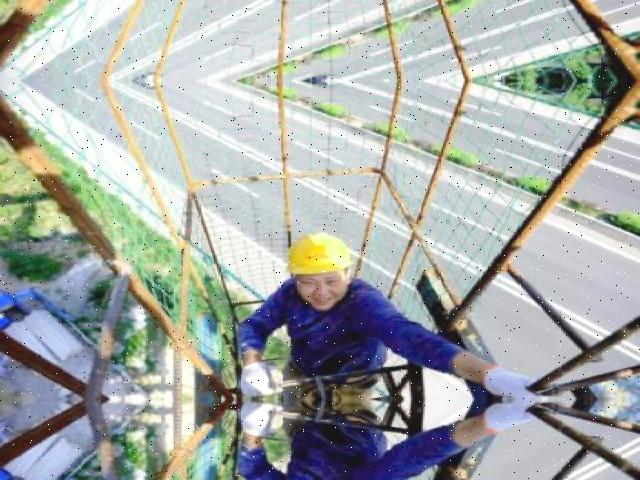Helmet: (282, 227, 356, 277)
